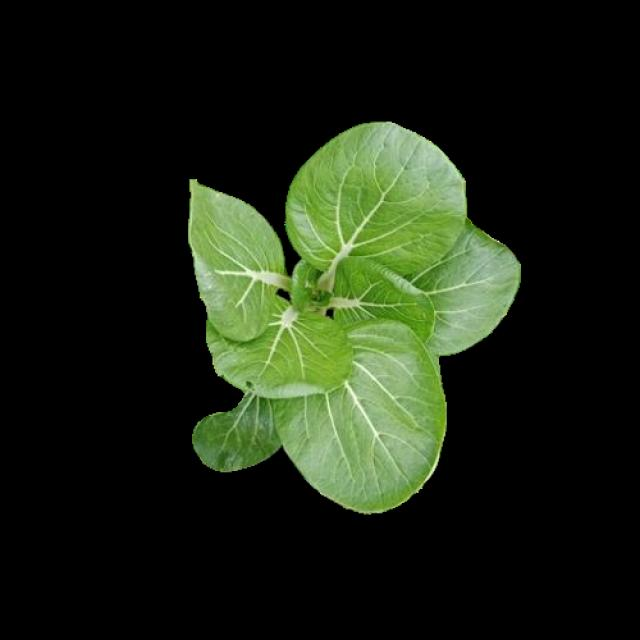healthy: (174, 122, 516, 506)
not-mature: (176, 124, 518, 508)
